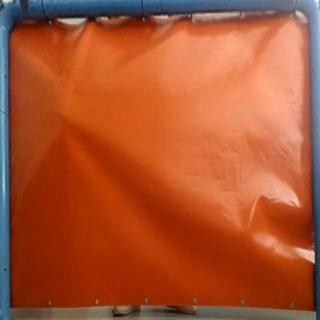Hit-hRxx: (53, 104, 78, 124)
